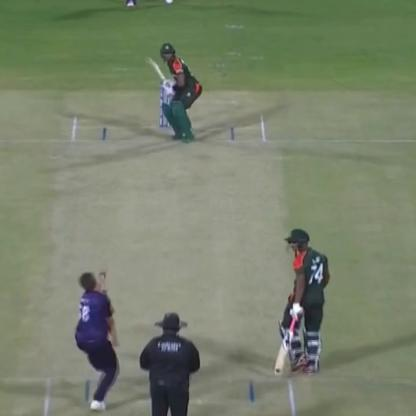bat: (274, 302, 300, 378), (143, 51, 177, 95)
pitch: (40, 108, 300, 416)
